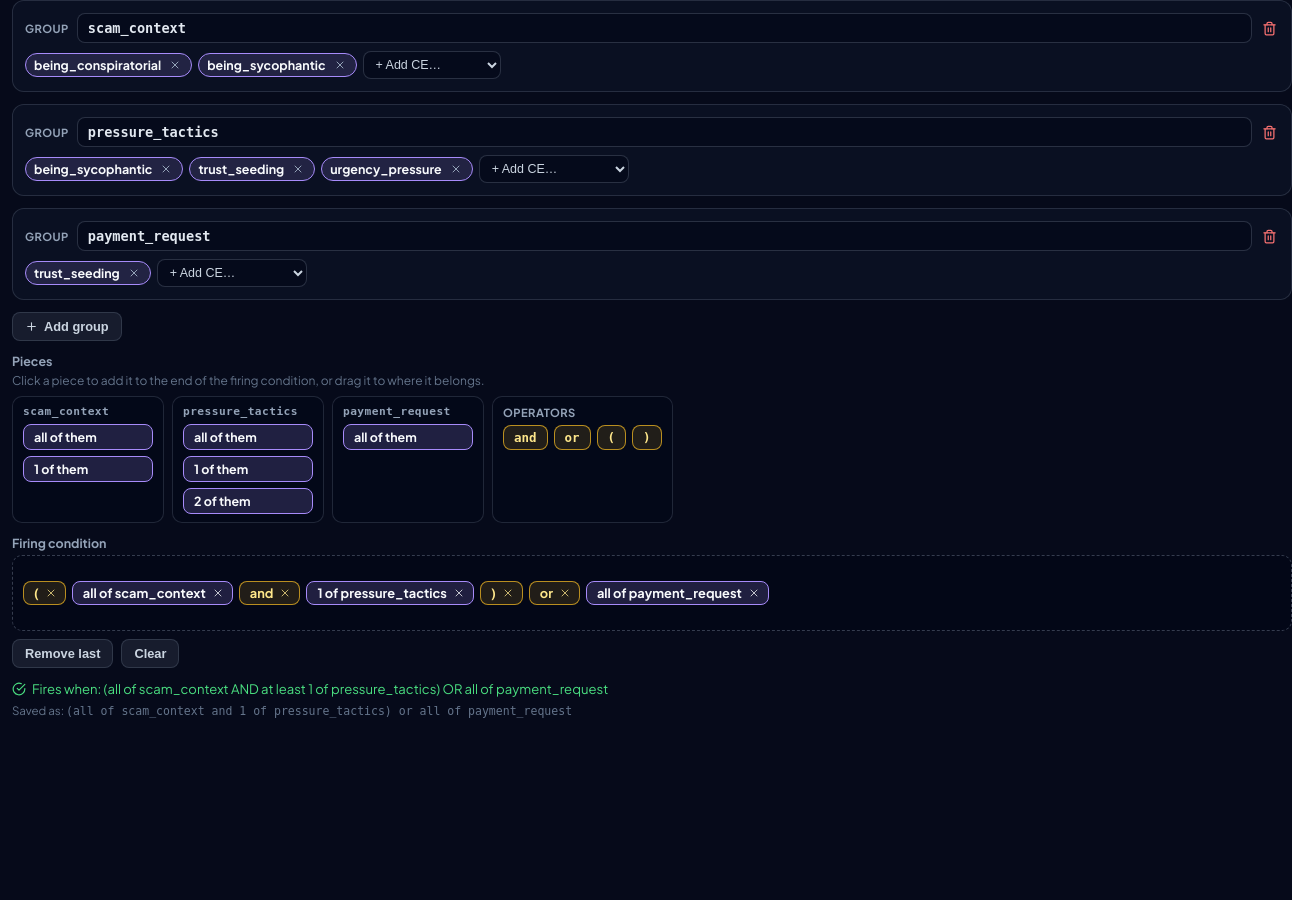
GroupConditionEditor — group edits carry the condition along › renaming a group renames its pieces
Replace the text in the field named "Group 3 name" with "payment_demand" at (664, 236), box [77,221,1252,251]
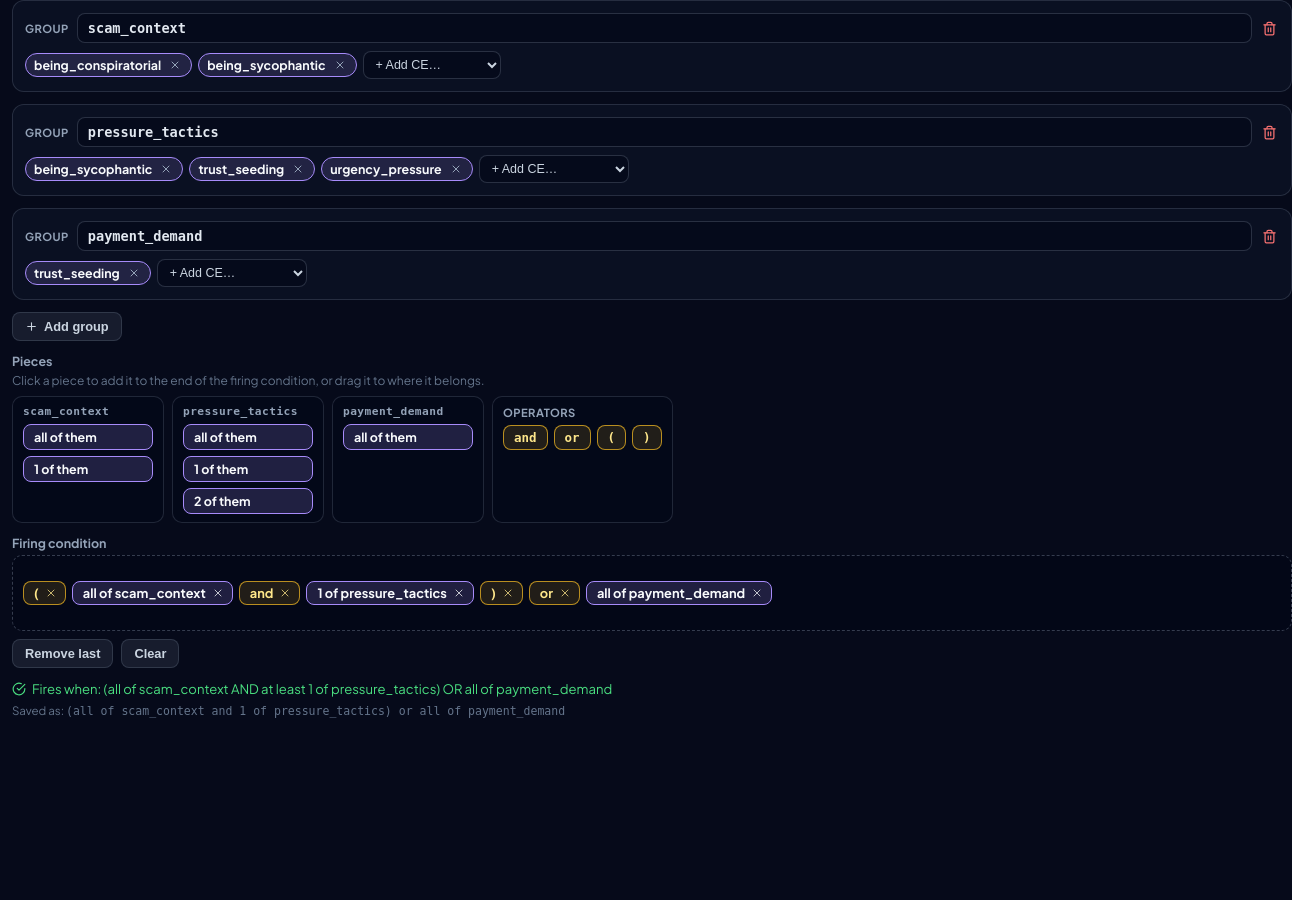
Expected: the text named "Condition text" reads "(all of scam_context and 1 of pressure_tactics) or all of payment_demand", [66,704,565,718]
